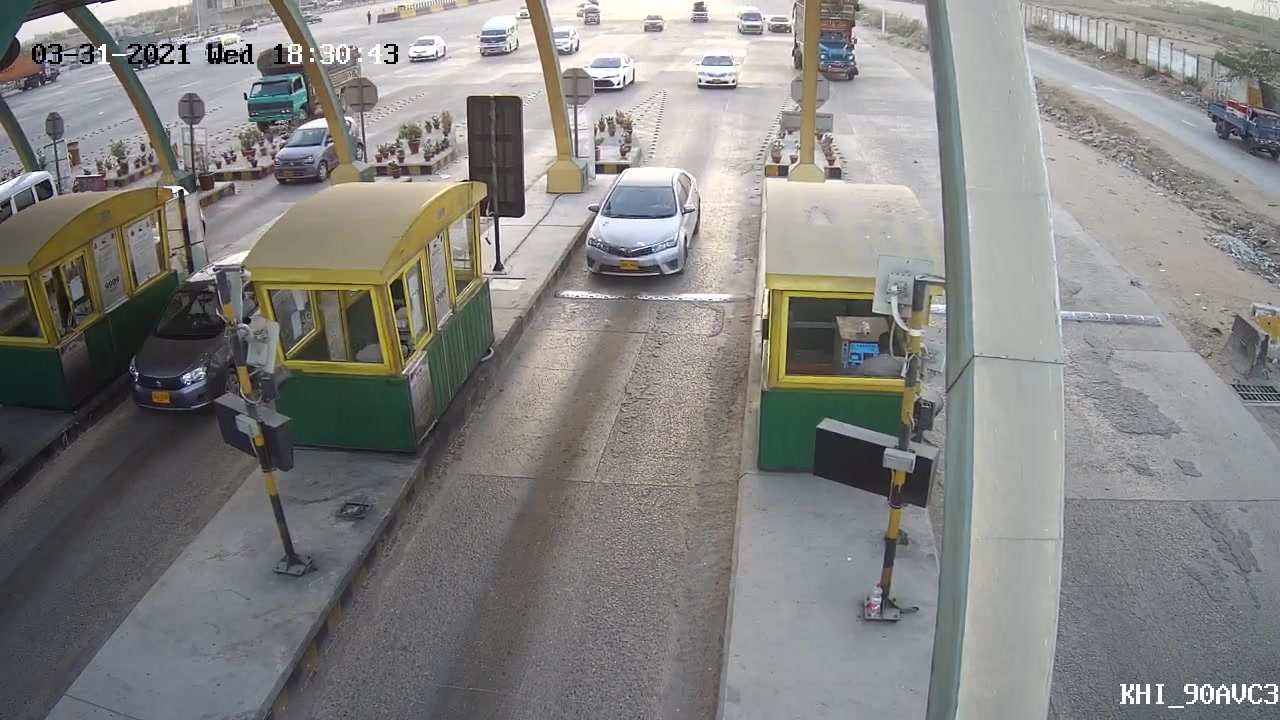F1: (578, 159, 710, 283)
